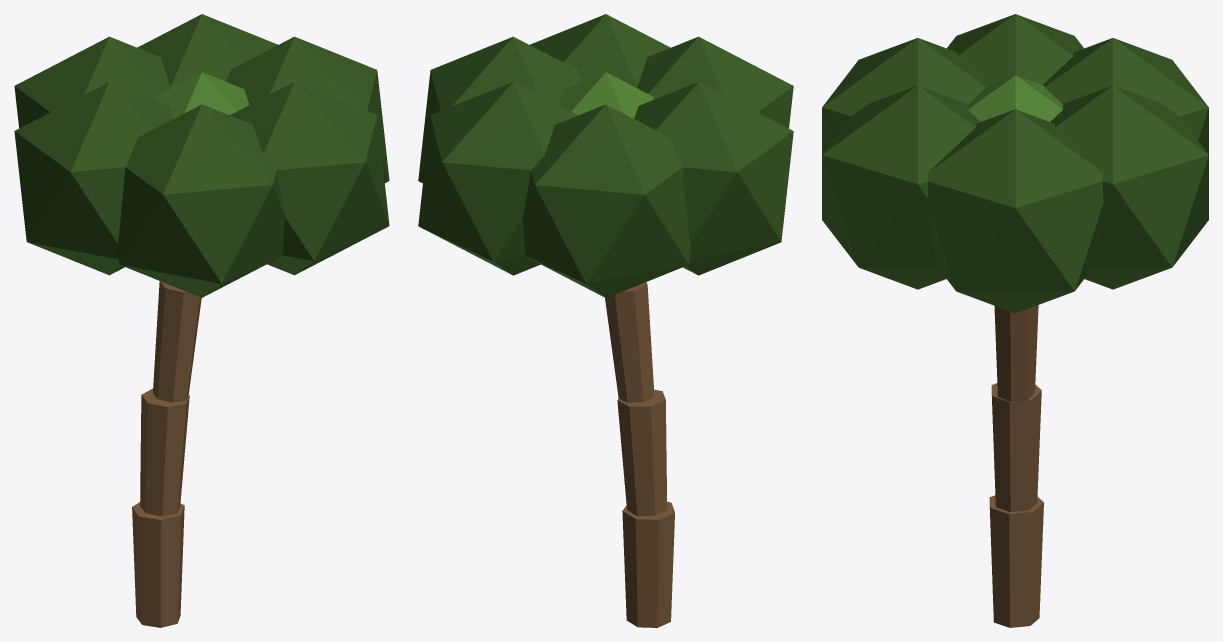
Rendered from landscape.palm.glb.
3 views of the same model, side by side, from view 1: azimuth 30°, elevation 25°; view 2: azimuth 150°, elevation 25°; view 3: azimuth 270°, elevation 25° (orthographic). The views are drawn at different scales.
Visible parts, largest first — view 1: landscape.palm; view 2: landscape.palm; view 3: landscape.palm.
Boxes of the visible parts, bbox=[...] form: landscape.palm: bbox=[14, 14, 389, 627]; landscape.palm: bbox=[418, 14, 793, 627]; landscape.palm: bbox=[822, 14, 1208, 627].
Size of the model in its own units: 2.84 by 4.25 by 2.57.
